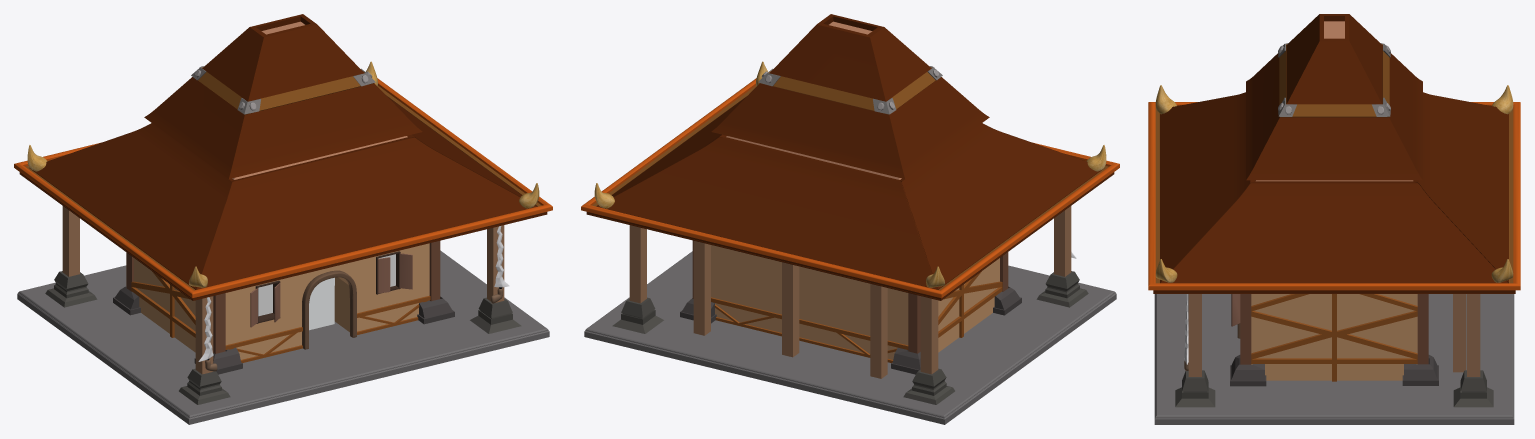
File: joglo.glb
The picture shows the model from 3 angles, left to right: view 1: azimuth 30°, elevation 25°; view 2: azimuth 150°, elevation 25°; view 3: azimuth 270°, elevation 25°; orthographic projection. The views are drawn at different scales.
Visible parts, largest first — view 1: Object_4, Object_69; view 2: Object_4, Object_69; view 3: Object_4, Object_69.
Part boxes in pixels (x1,y1,x2,y2): Object_4: [14, 14, 552, 424]; Object_69: [27, 61, 539, 287]; Object_4: [581, 14, 1119, 424]; Object_69: [594, 61, 1106, 287]; Object_4: [1148, 14, 1520, 424]; Object_69: [1155, 85, 1513, 282].
Bounding box in the file's own units: 1.65 × 1.28 × 1.42.
2 materials, 2 textured.
